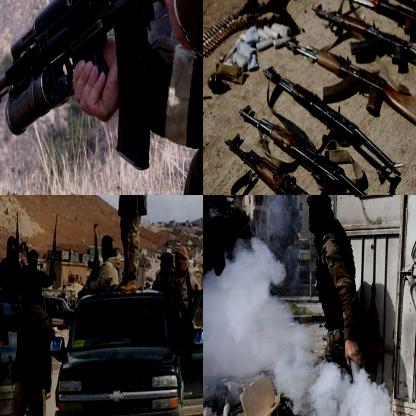rifle: (0, 0, 202, 175), (259, 61, 388, 169), (236, 102, 385, 194), (286, 33, 415, 133), (222, 130, 374, 194), (309, 1, 415, 80), (329, 0, 415, 41), (349, 0, 415, 21), (46, 214, 61, 283), (84, 222, 99, 277)
